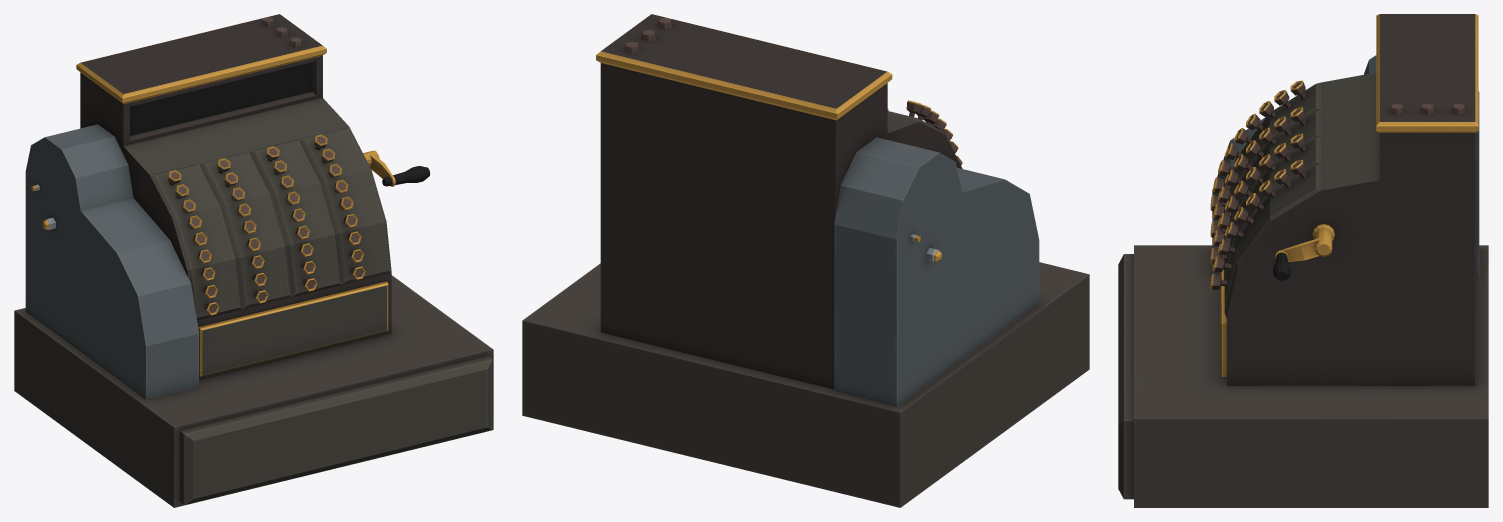
The model's file is cash_register.glb.
3 views of the same model, side by side, from view 1: azimuth 30°, elevation 25°; view 2: azimuth 150°, elevation 25°; view 3: azimuth 270°, elevation 25° (orthographic). The views are drawn at different scales.
Parts seen in each view (by area): view 1: CashRegister_mesh; view 2: CashRegister_mesh; view 3: CashRegister_mesh.
Part boxes in pixels (x1,y1,x2,y2): CashRegister_mesh: [14, 14, 493, 507]; CashRegister_mesh: [522, 14, 1089, 507]; CashRegister_mesh: [1118, 14, 1488, 507].
Size of the model in its own units: 12.88 by 12.32 by 11.53.
1 material, 1 textured.
